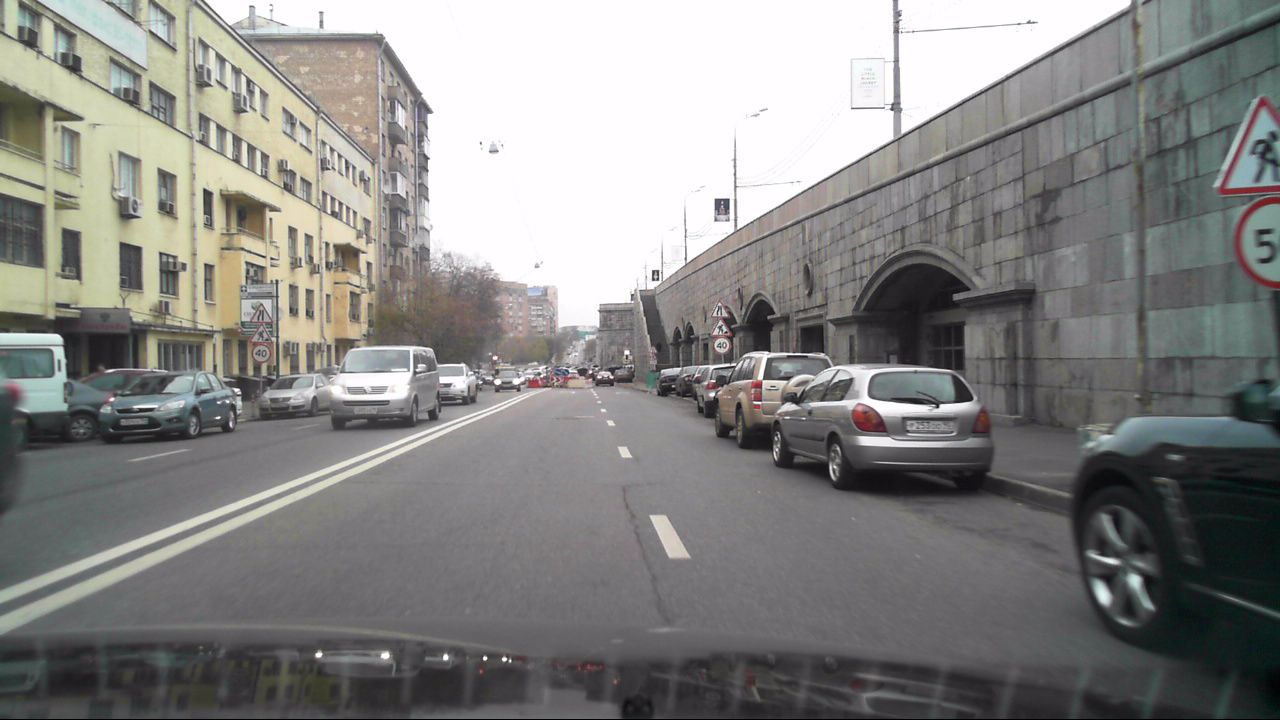speed_warning_40: (711, 336, 730, 354)
